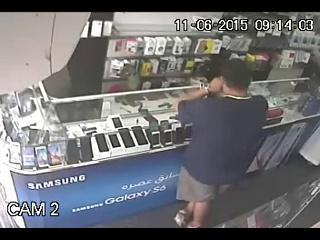Normal: (173, 56, 270, 227)
